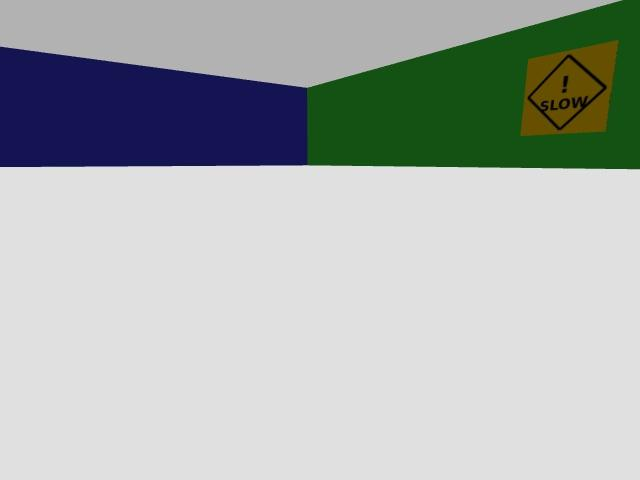slow: (521, 42, 618, 135)
